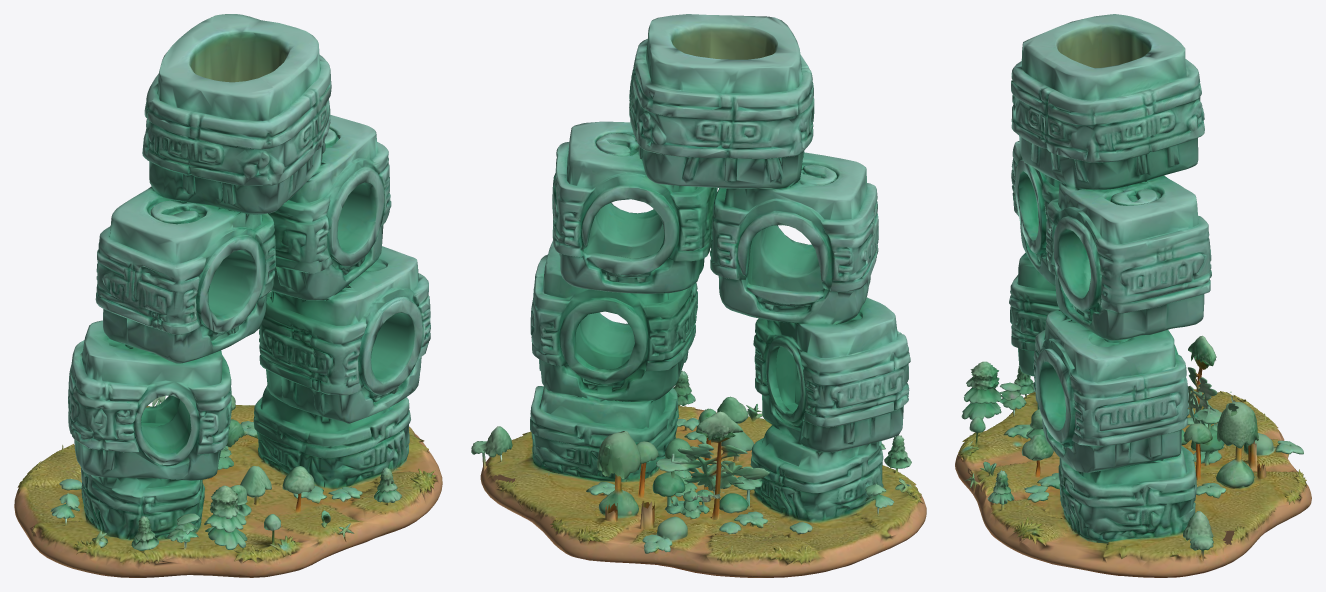
The model's file is 04-stage-two-gate.glb.
3 renders of one model, left to right at view 1: azimuth 30°, elevation 25°; view 2: azimuth 150°, elevation 25°; view 3: azimuth 270°, elevation 25°, orthographic. The views are drawn at different scales.
Parts seen in each view (by area): view 1: tripo_node_78c307cd-2b45-43f9-bfbb-293f34d53bee; view 2: tripo_node_78c307cd-2b45-43f9-bfbb-293f34d53bee; view 3: tripo_node_78c307cd-2b45-43f9-bfbb-293f34d53bee.
Boxes of the visible parts, bbox=[...] form: tripo_node_78c307cd-2b45-43f9-bfbb-293f34d53bee: bbox=[14, 14, 442, 577]; tripo_node_78c307cd-2b45-43f9-bfbb-293f34d53bee: bbox=[471, 14, 926, 577]; tripo_node_78c307cd-2b45-43f9-bfbb-293f34d53bee: bbox=[955, 14, 1311, 577].
Bounding box in the file's own units: 1.24 × 1.38 × 1.
1 material, 1 textured.
